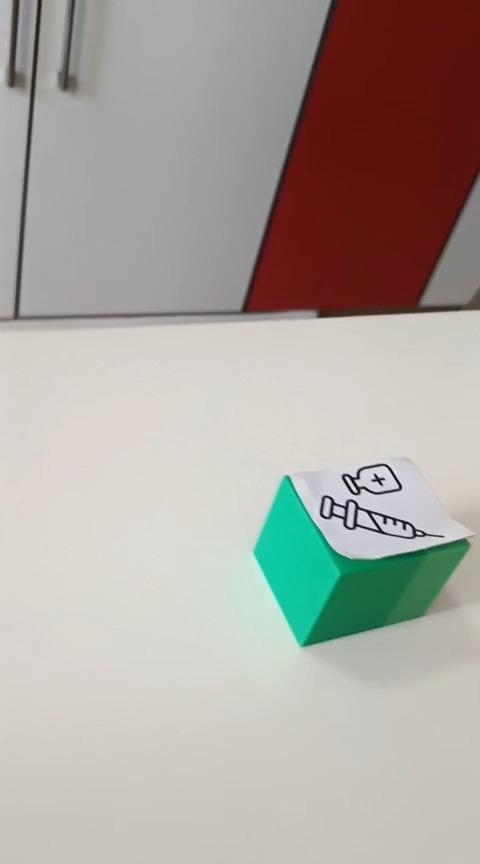antiseptic cream: (252, 454, 475, 647)
